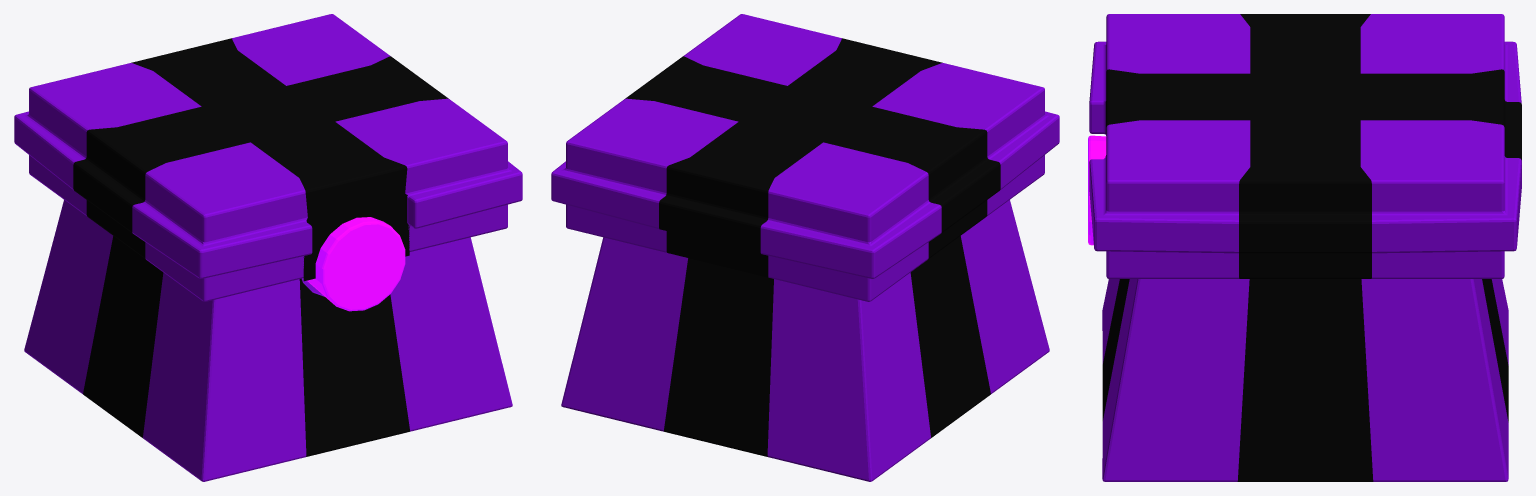
File: Heavy.fbx
3 views of the same model, side by side, from view 1: azimuth 30°, elevation 25°; view 2: azimuth 150°, elevation 25°; view 3: azimuth 270°, elevation 25° (orthographic). The views are drawn at different scales.
Visible parts, largest first — view 1: Heavy; view 2: Heavy; view 3: Heavy.
Part boxes in pixels (x1=…): Heavy: x1=14, y1=14, x2=522, y2=481; Heavy: x1=551, y1=14, x2=1059, y2=481; Heavy: x1=1088, y1=14, x2=1521, y2=481.
Size of the model in its own units: 90.14 by 68.99 by 90.36.
